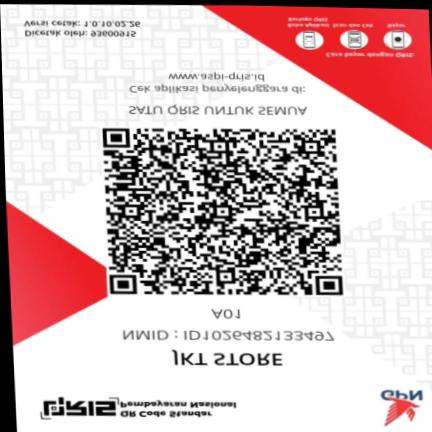Cara Pakai QRIS: (279, 8, 427, 61)
Cek Aplikasi Penyelenggara: (120, 67, 313, 98)
Dicetak Oleh: (21, 29, 143, 36)
Logo GPN: (370, 385, 430, 429)
Logo dan deskripsi QRIS: (34, 394, 246, 423)
Nama Merchant: (163, 349, 295, 370)
National Merchant ID: (117, 328, 338, 344)
QR Code: (93, 124, 348, 300)
Slogan: (121, 101, 317, 119)
Terminal ID: (203, 305, 250, 321)
Versi Cetak: (20, 17, 143, 28)
